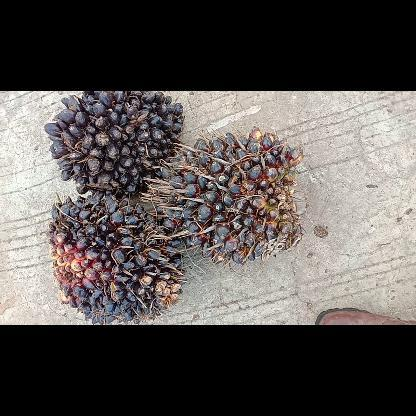TBS mentah: (146, 123, 304, 265), (47, 188, 189, 324), (42, 91, 186, 197)
